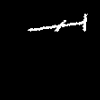double_crochet: (28, 14, 86, 30)
